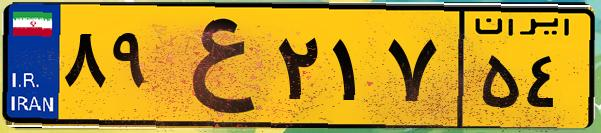1: (330, 28, 385, 110)
2: (270, 28, 330, 110)
4: (525, 38, 570, 115)
5: (475, 38, 525, 113)
7: (385, 28, 445, 110)
8: (57, 26, 110, 100)
9: (110, 28, 158, 98)
ع: (158, 12, 270, 120)
